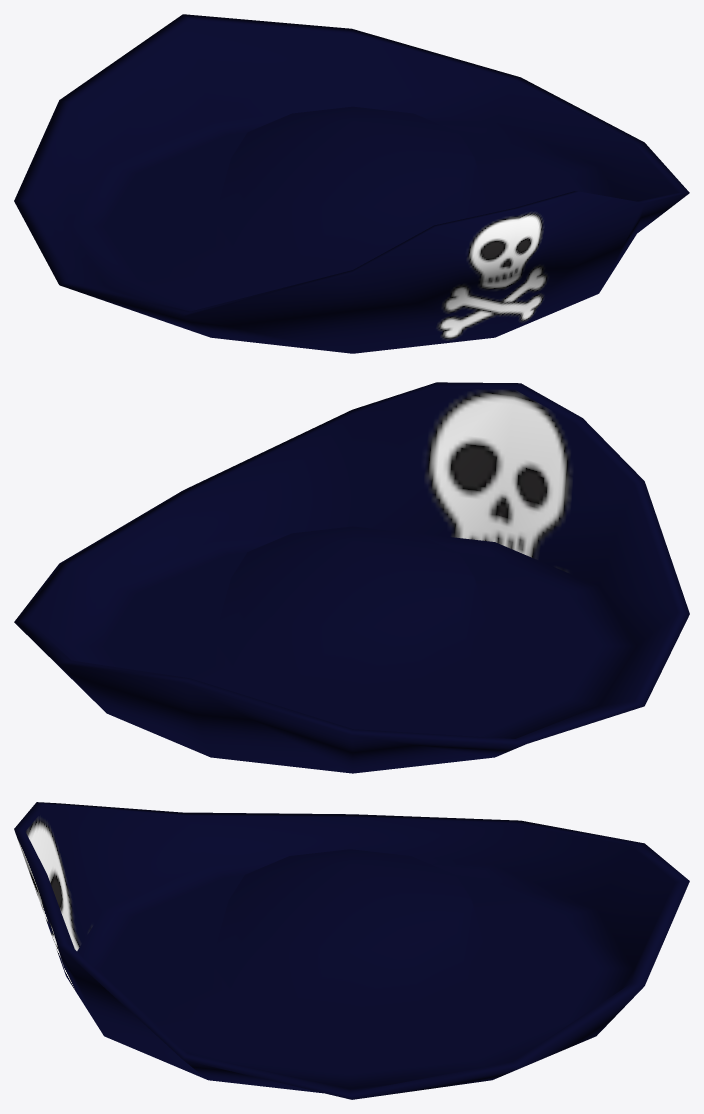
Rendered from amogus-hat-pirate.fbx.
3 renders of one model, top to bottom at view 1: azimuth 30°, elevation 25°; view 2: azimuth 150°, elevation 25°; view 3: azimuth 270°, elevation 25°, orthographic.
Visible parts, largest first — view 1: PirateHat; view 2: PirateHat; view 3: PirateHat.
Boxes of the visible parts, bbox=[...] form: PirateHat: bbox=[14, 14, 689, 353]; PirateHat: bbox=[14, 382, 689, 773]; PirateHat: bbox=[14, 802, 689, 1099].
Size of the model in its own units: 172 by 172 by 41.22.
